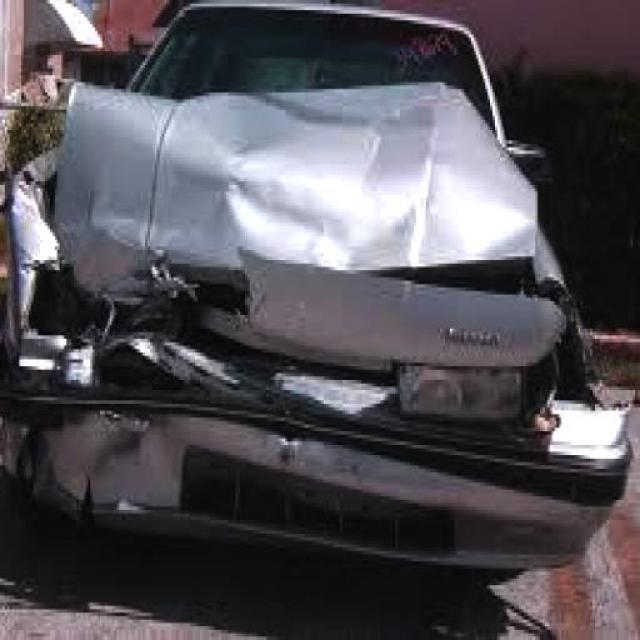car damage: (4, 77, 623, 572)
